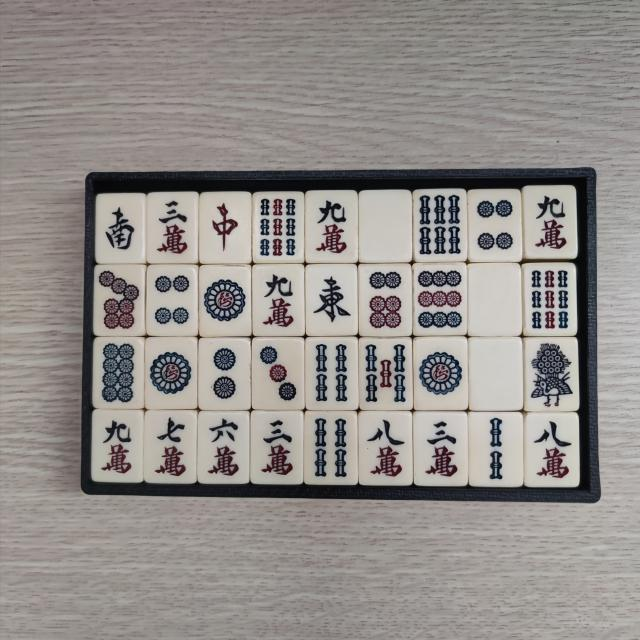hdr: (204, 197, 247, 260)
hdw: (362, 194, 406, 256), (476, 342, 518, 404), (474, 268, 516, 330)
hwe: (309, 270, 353, 332)
hws: (100, 196, 140, 258)
sb1: (528, 342, 574, 410)
sb2: (474, 416, 518, 484)
sb4: (312, 342, 354, 408), (312, 416, 353, 482)
sb5: (361, 339, 406, 404)
sb6: (416, 192, 461, 256)
sb9: (530, 268, 572, 333), (258, 196, 300, 260)
sc3: (256, 416, 300, 480), (421, 417, 463, 482), (152, 197, 194, 260)
sc6: (202, 416, 245, 480)
sc7: (150, 414, 192, 479)
sc8: (364, 417, 408, 482), (532, 420, 576, 484)
sc9: (96, 414, 138, 478), (528, 190, 570, 253), (259, 268, 300, 332), (312, 194, 354, 256)
sd1: (150, 340, 196, 406), (419, 344, 466, 406), (202, 271, 248, 333)
sd2: (205, 342, 248, 405)
sd3: (256, 344, 300, 406)
sd4: (473, 192, 517, 255), (151, 270, 194, 332)
sd6: (366, 268, 408, 332)
sd7: (97, 270, 141, 334)
sd8: (98, 343, 140, 406)
sd9: (416, 267, 462, 330)
